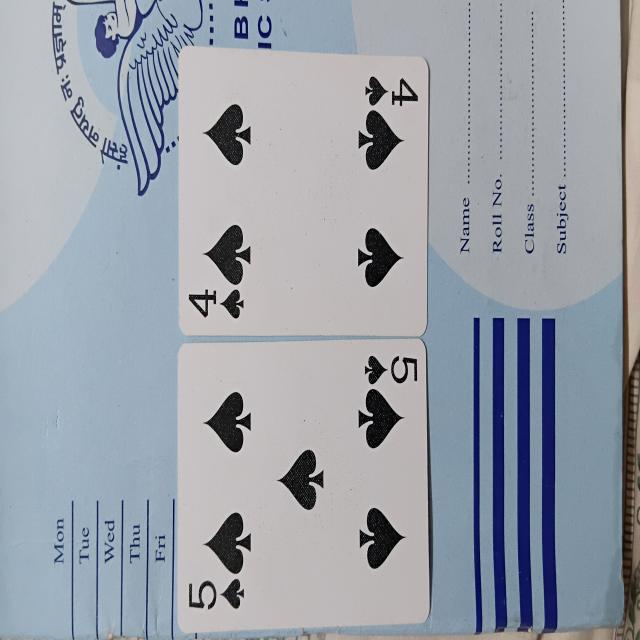4S: (180, 44, 426, 336)
5S: (179, 344, 429, 629)
